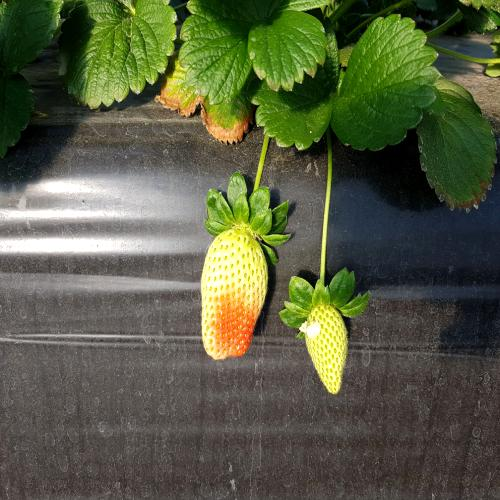partially-ripe: (196, 204, 272, 379)
unripe: (299, 302, 357, 405)
